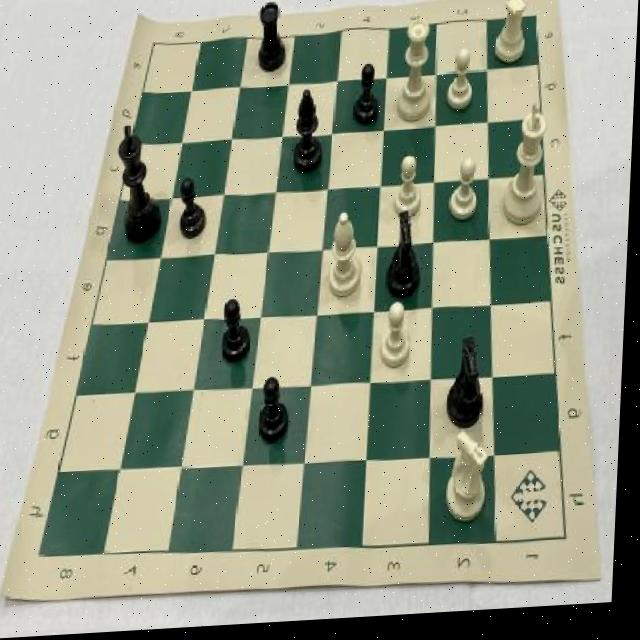bishop: (285, 83, 332, 185)
black-bishop: (112, 114, 171, 255)
black-king: (444, 333, 495, 439), (382, 212, 431, 311)
black-knight: (257, 368, 297, 453), (218, 295, 259, 374), (349, 60, 388, 138), (178, 173, 215, 248)
black-queen: (254, 0, 294, 86)
black-rook: (327, 206, 371, 309)
white-bishop: (498, 105, 557, 237)
white-king: (447, 430, 499, 531)
white-knight: (378, 300, 424, 382), (446, 154, 486, 233), (441, 50, 479, 122), (391, 154, 426, 228)
white-pawn: (391, 16, 437, 133)
white-queen: (489, 0, 533, 77)
